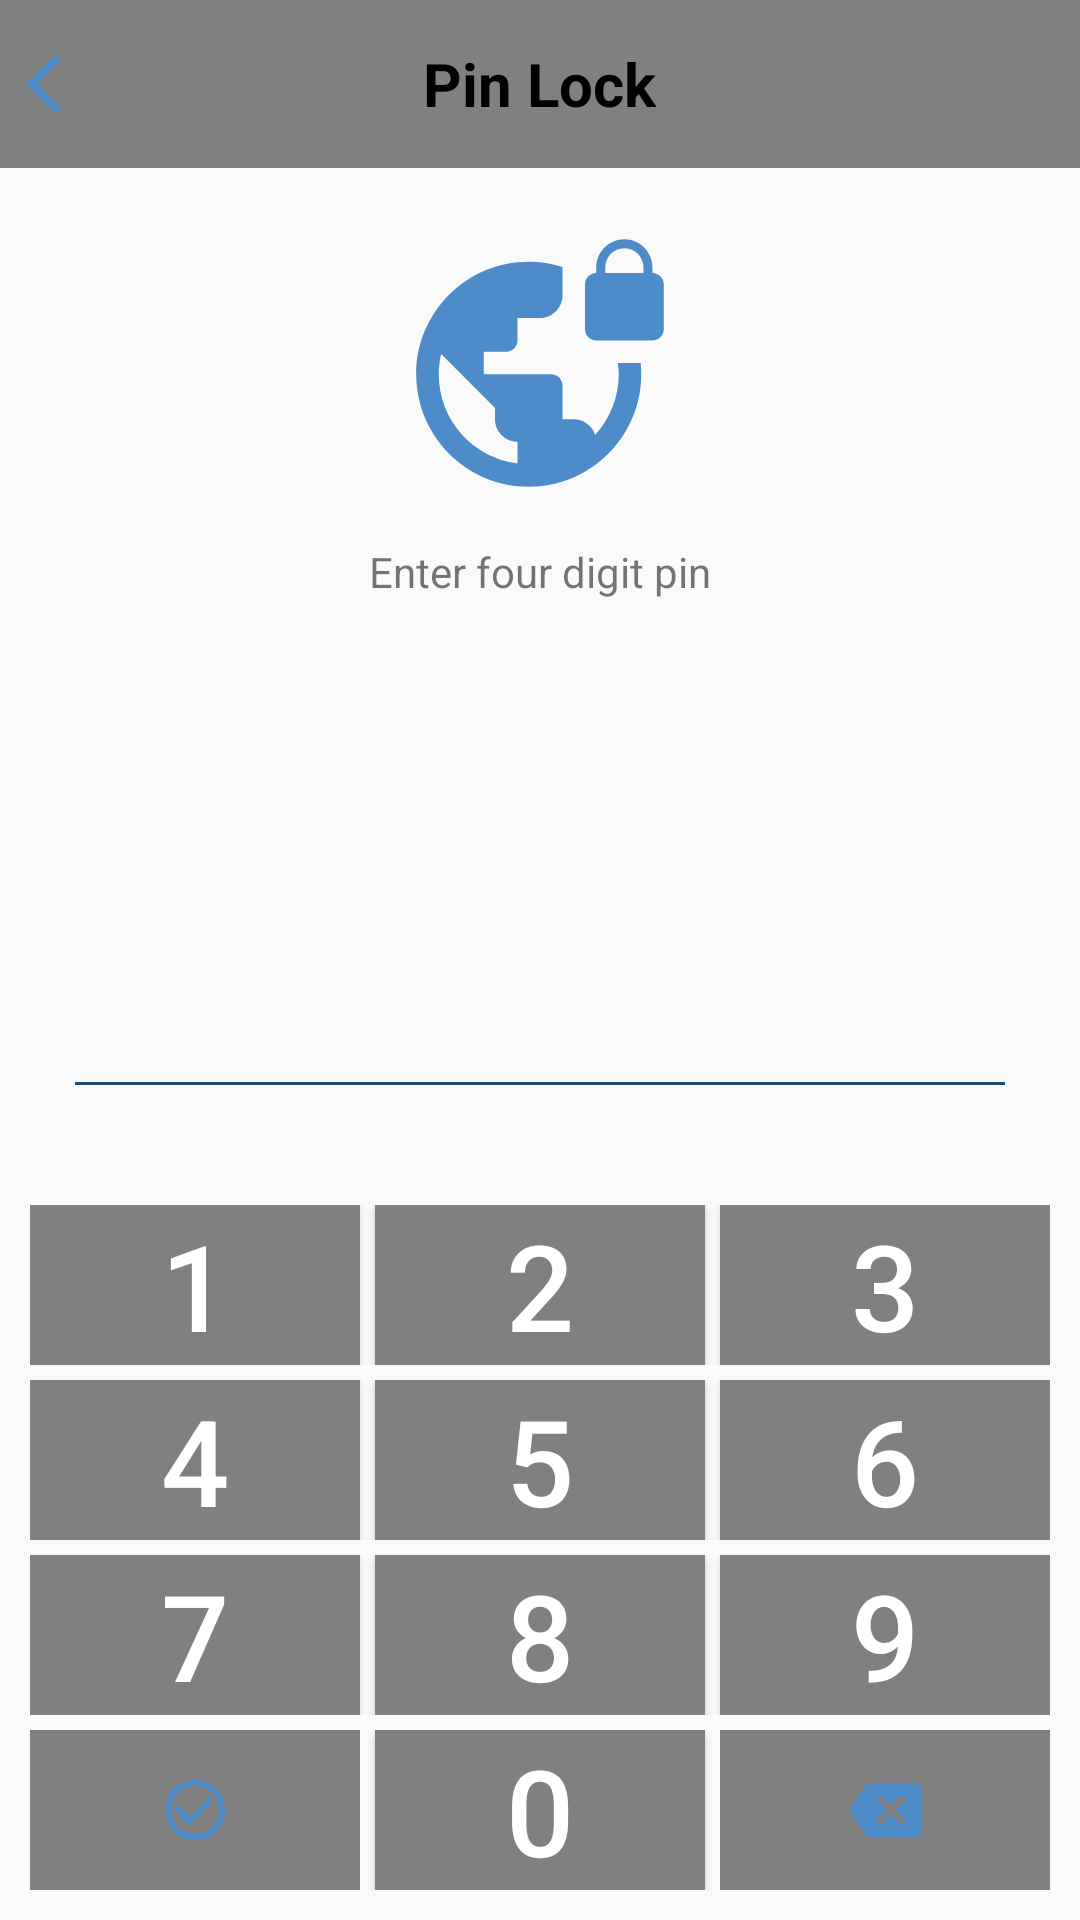

Screen size 1080x1920. Icon name, then its center in pixels as point (x, y):
back: point (43, 84)
vpn lock: point (540, 363)
